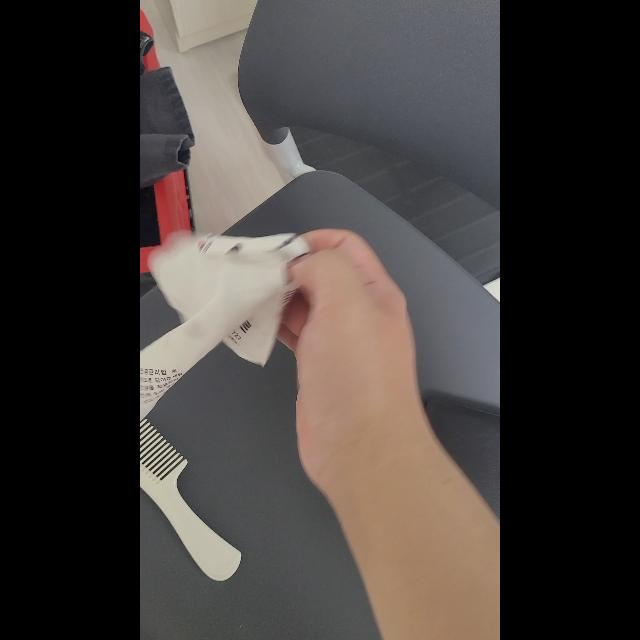COMB: (140, 419, 240, 581)
Glasses cleaning cloth: (140, 230, 310, 422)
WALLET: (422, 391, 500, 519)
